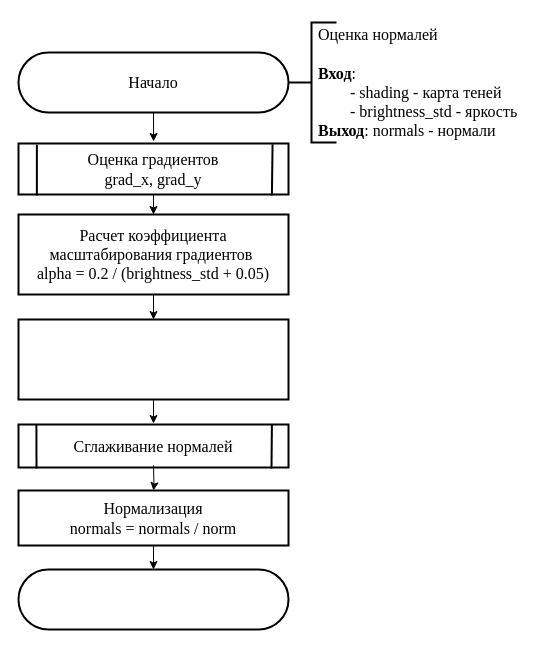
The diagram is 553 pixels wide and 647 high, and some of its shapes have lost their labels. Here are the shapes that lost their labels. From the top down, the centre of each, then its label:
the point at 153,359: Вычисление нормалей нормалей nx = -alpha * grad_x ny = -alpha * grad_y nz = 1
the point at 153,599: Конец
